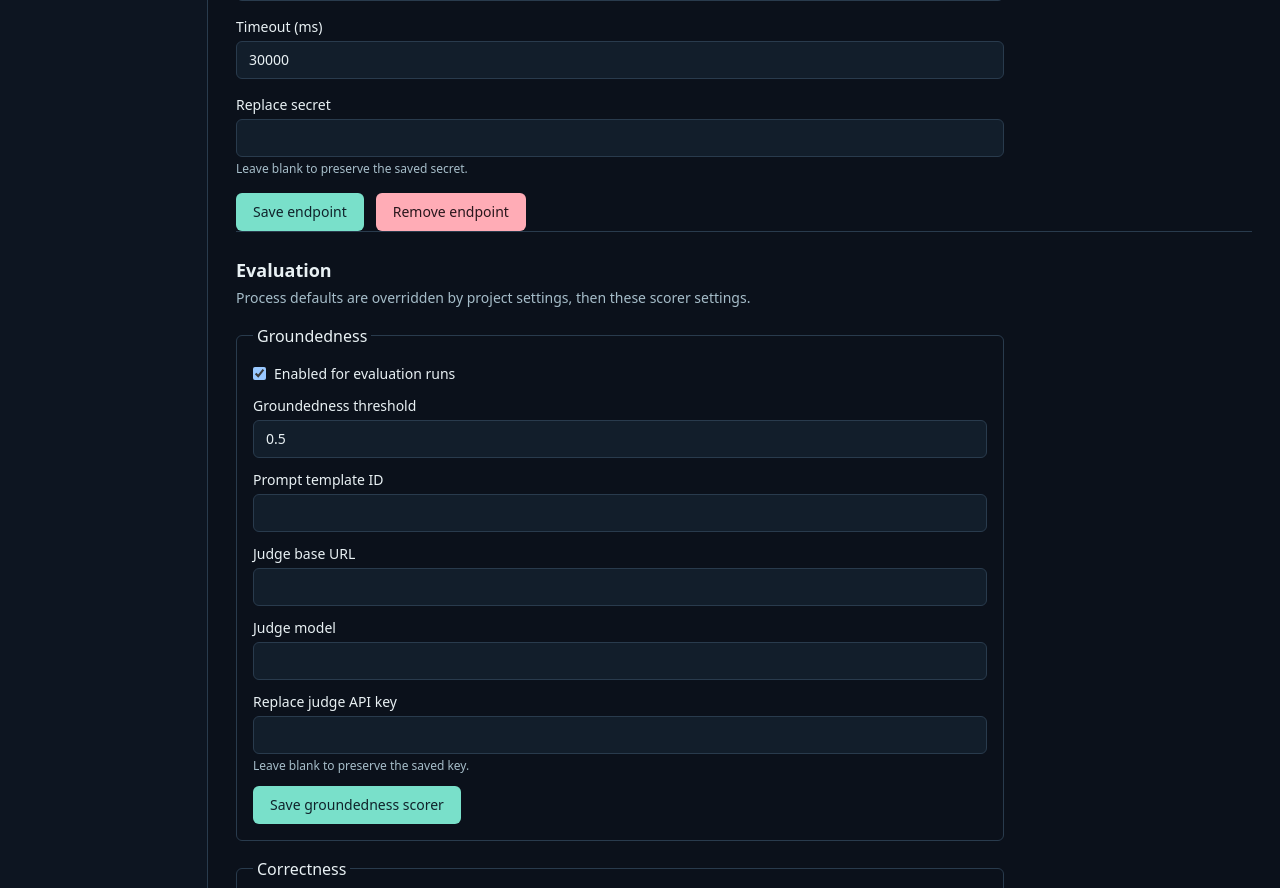
Test case: rejects a scorer threshold outside the valid range
The image size is (1280, 888).
(page scrolled)
Step 1. Replace the text in the number field labelled "Groundedness threshold" with "1.1" → (620, 438), box [253, 420, 987, 458]
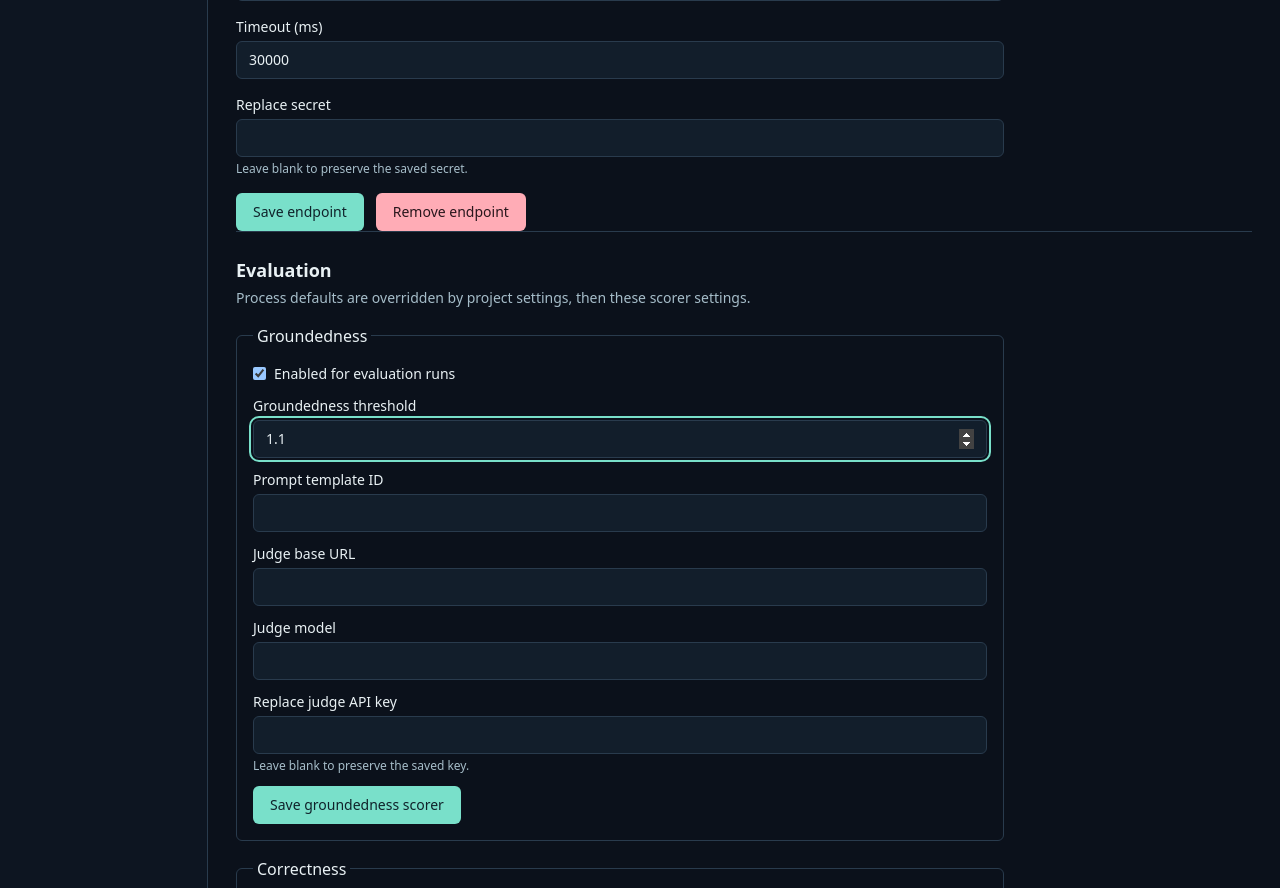
Step 2. Click the button "Save groundedness scorer" → (357, 804), box [253, 786, 461, 824]
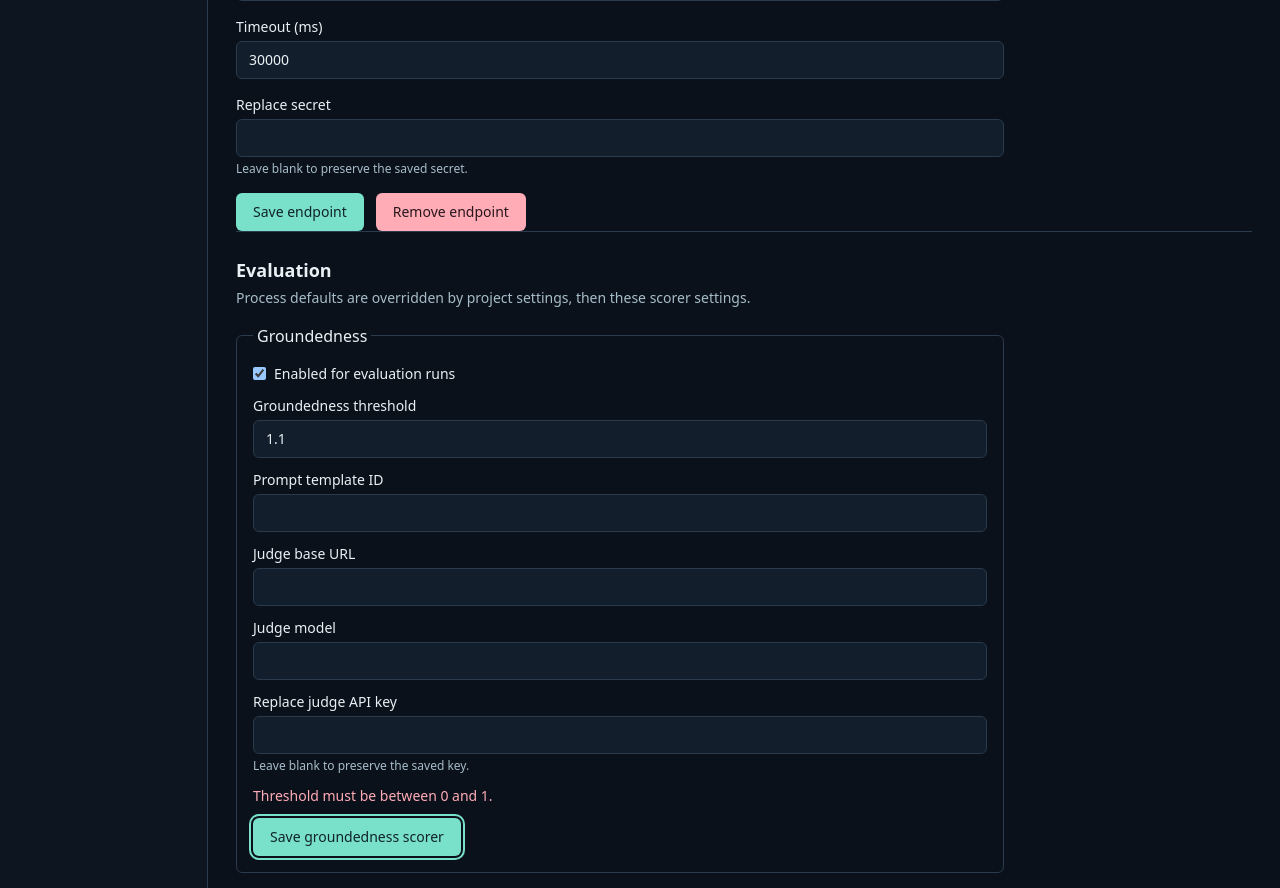
Expected: the message shows "Threshold must be between 0 and 1", [253, 786, 493, 804]
